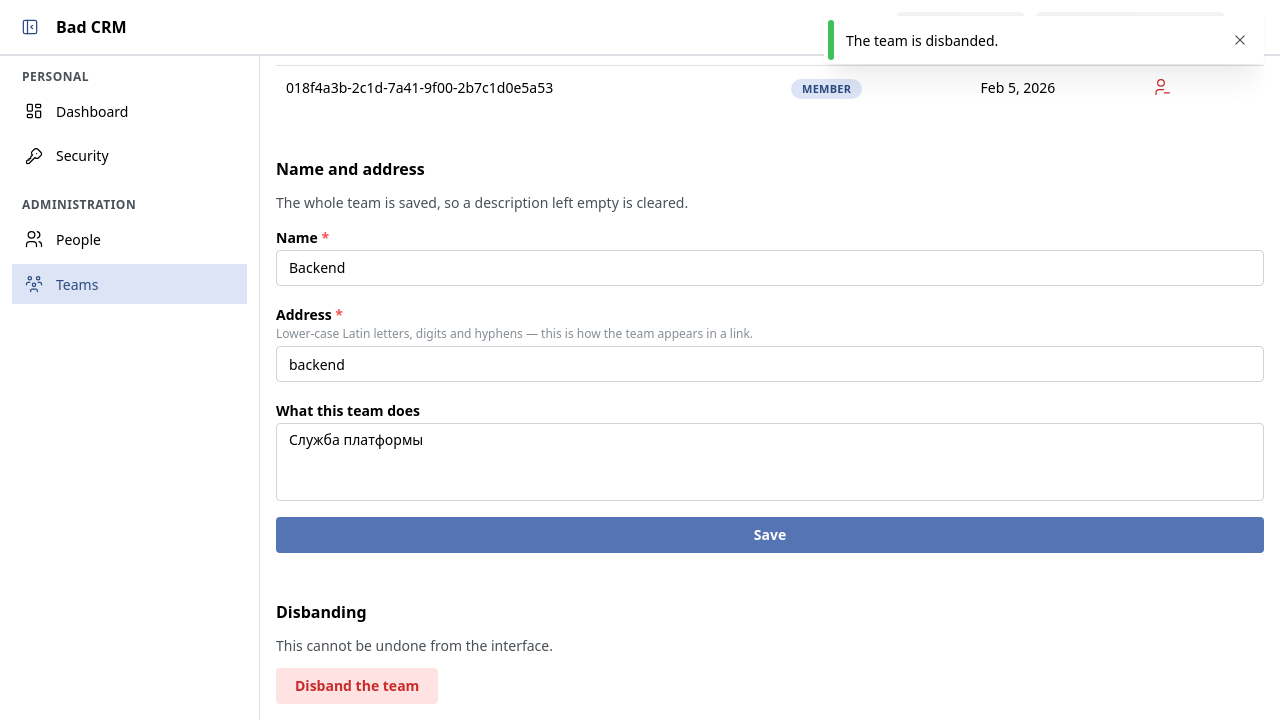
Scenario: the interpolated labels in en › name the team the disband dialog is about
(page scrolled)
Click the button "Disband the team". click: (357, 686)
box: [276, 668, 438, 704]
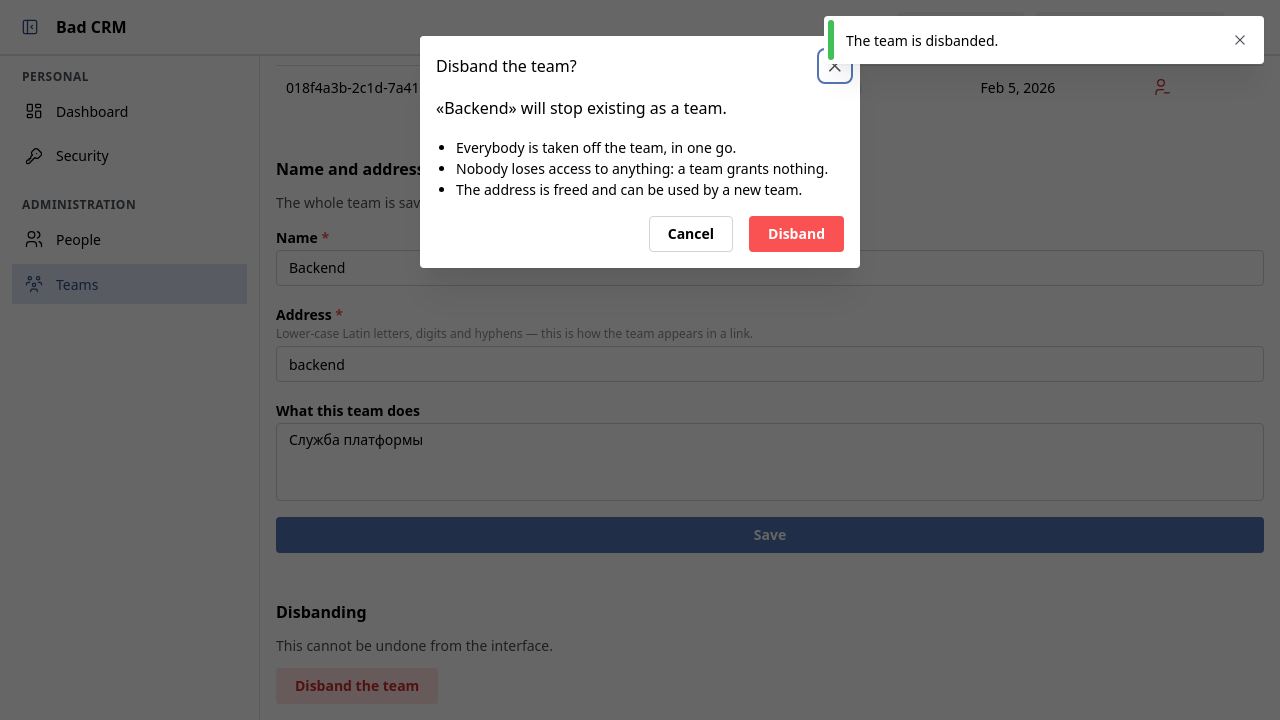
Expected: the text "«Backend» will stop existing as a team." is shown, [436, 97, 727, 119]
